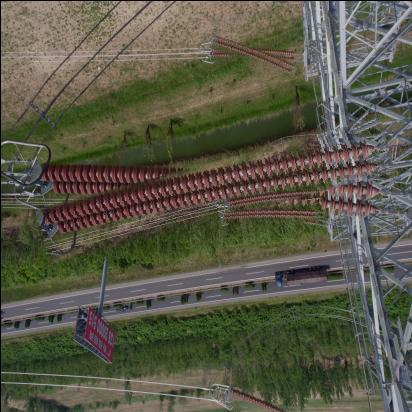insulator: (35, 141, 394, 243), (221, 201, 323, 232), (209, 41, 299, 70), (227, 390, 308, 412)
